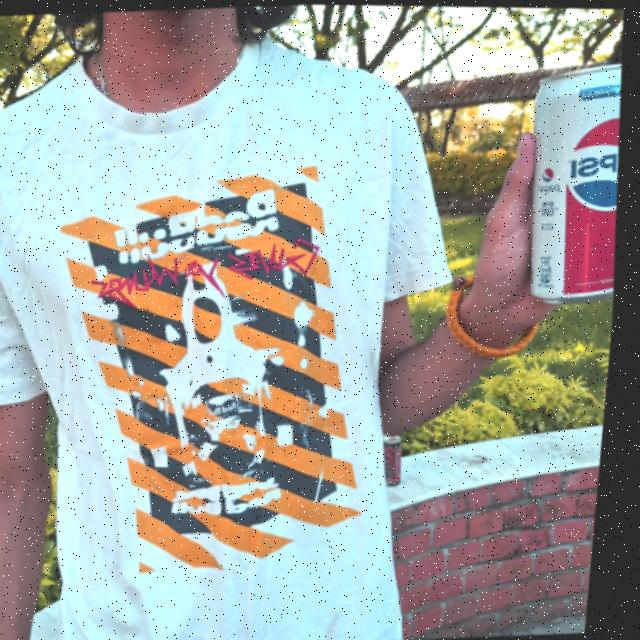Pepsi Retro: (518, 60, 635, 301)
